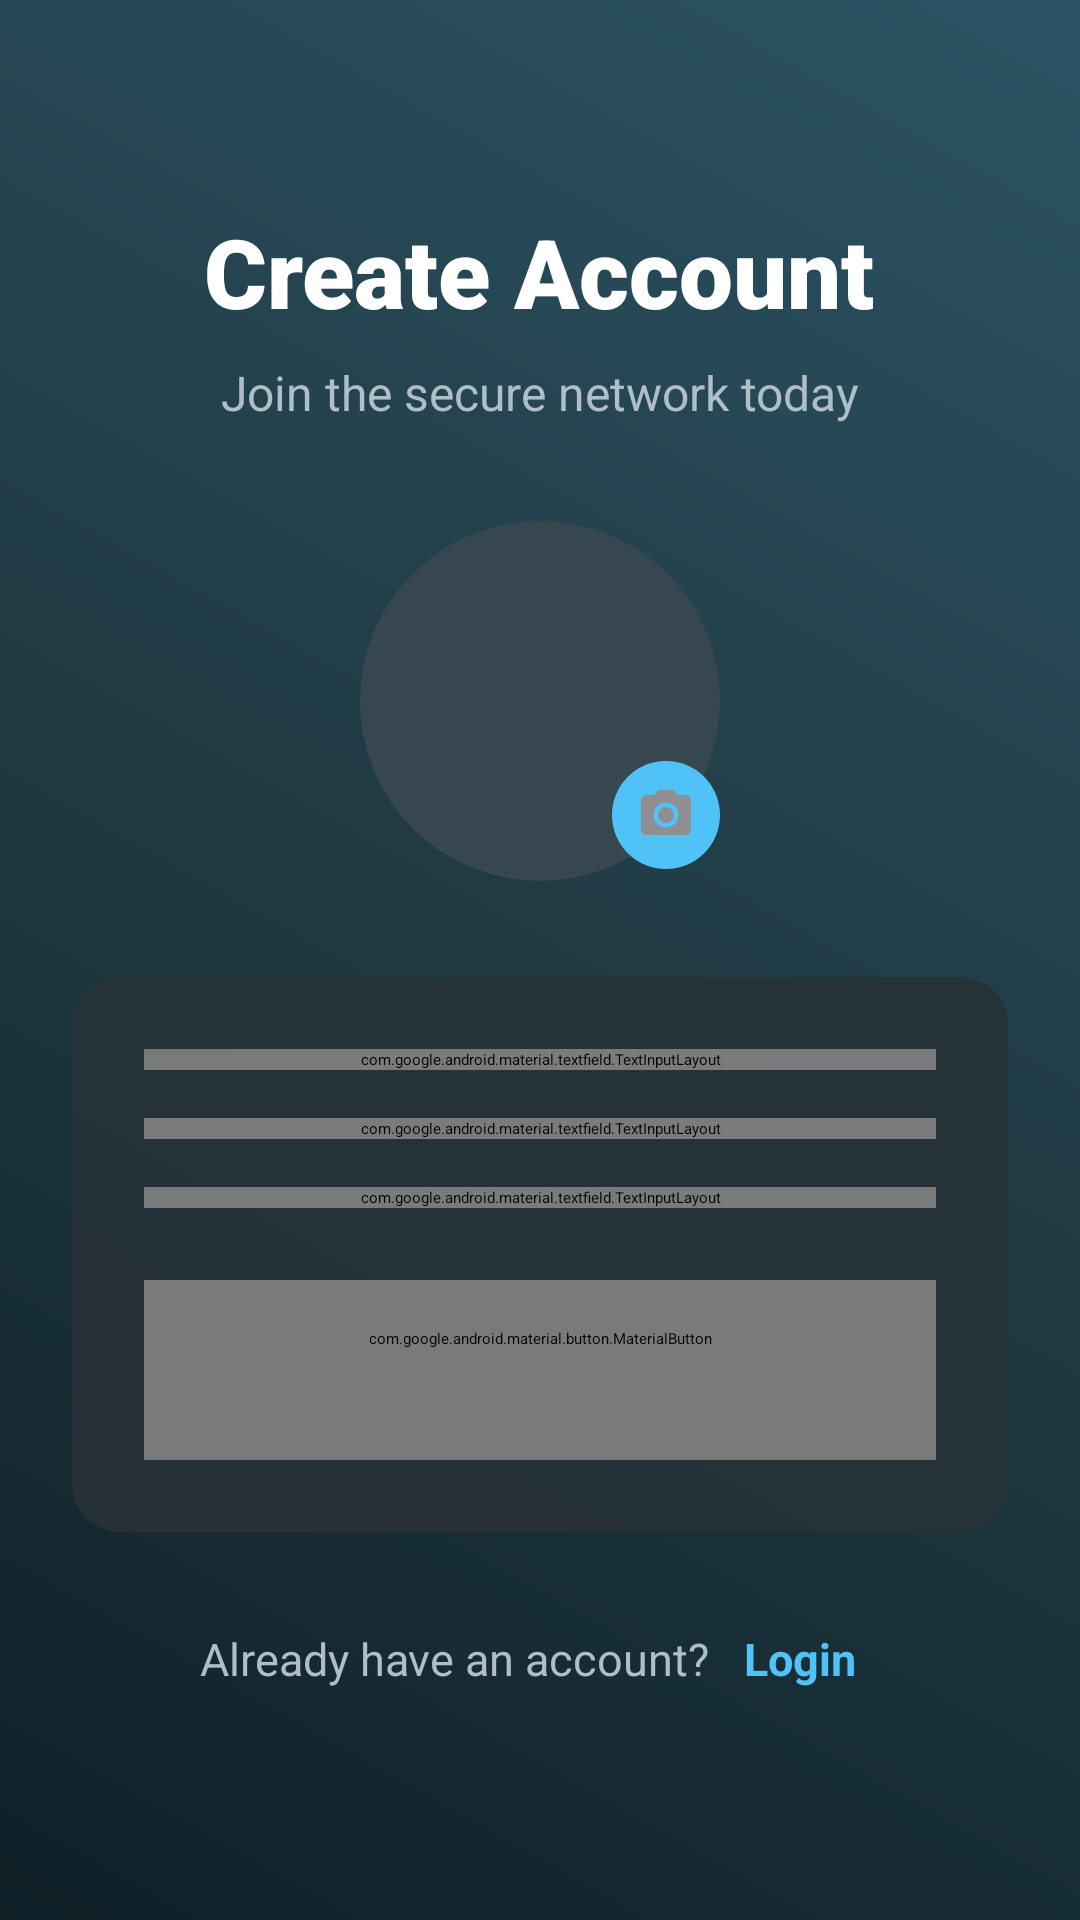

Icon click points for this 1080 x 1920 phone screenshot, format point (x, y):
camera: point (666, 815)
